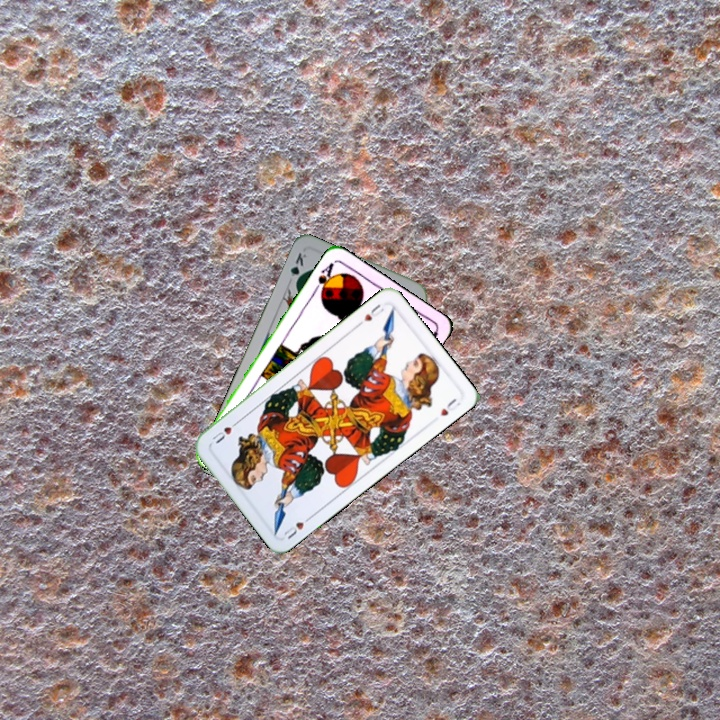GK: (286, 248, 309, 288)
HU: (280, 512, 315, 542), (353, 300, 387, 329)
SA: (309, 258, 338, 299)
